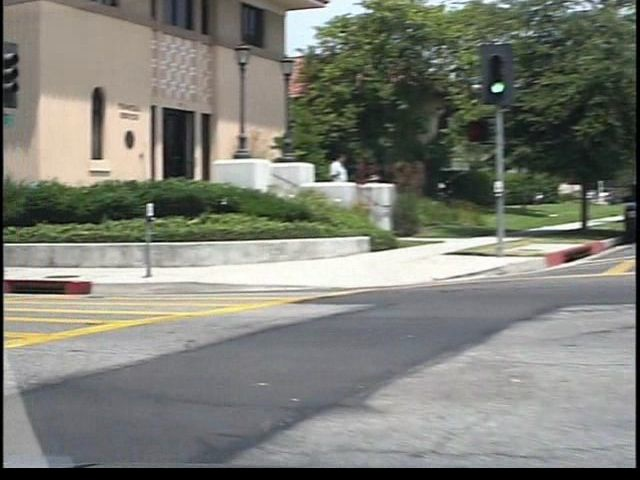person: (312, 150, 336, 219)
